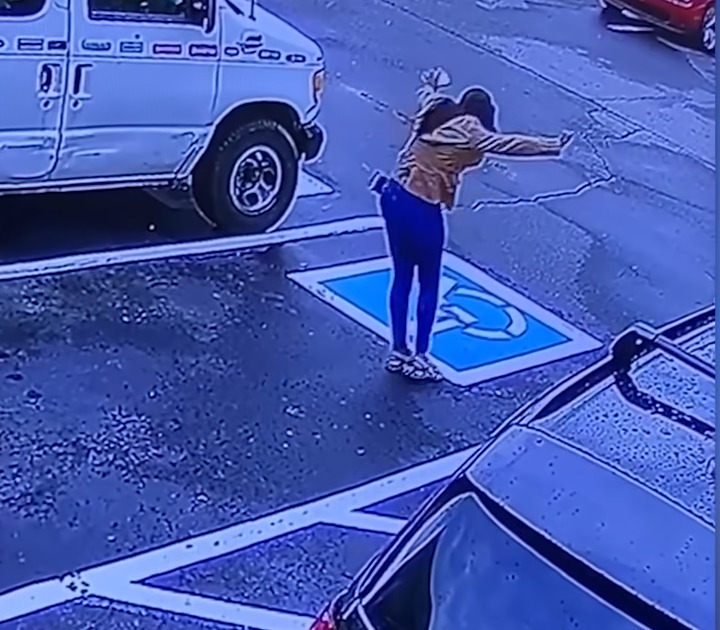person: (377, 68, 575, 382)
